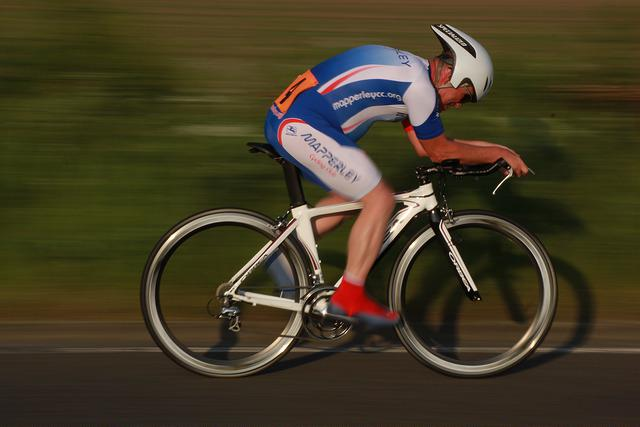bicycle: (124, 156, 570, 389)
